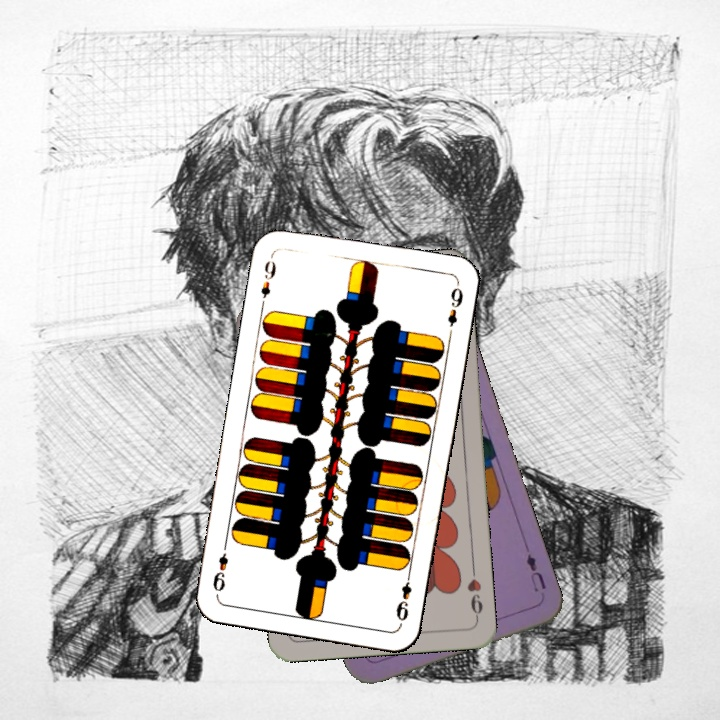E9: (257, 251, 279, 310), (392, 567, 414, 624)
EU: (522, 550, 549, 595)
H9: (463, 563, 486, 622)
